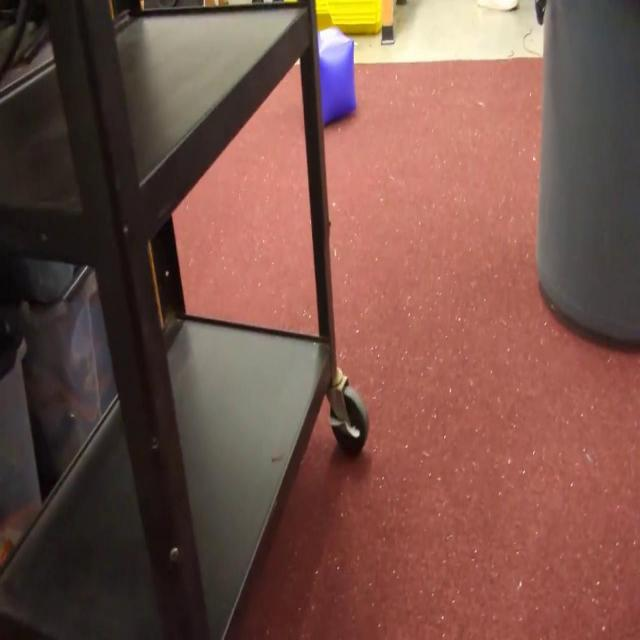frc_cube: (316, 27, 358, 121)
